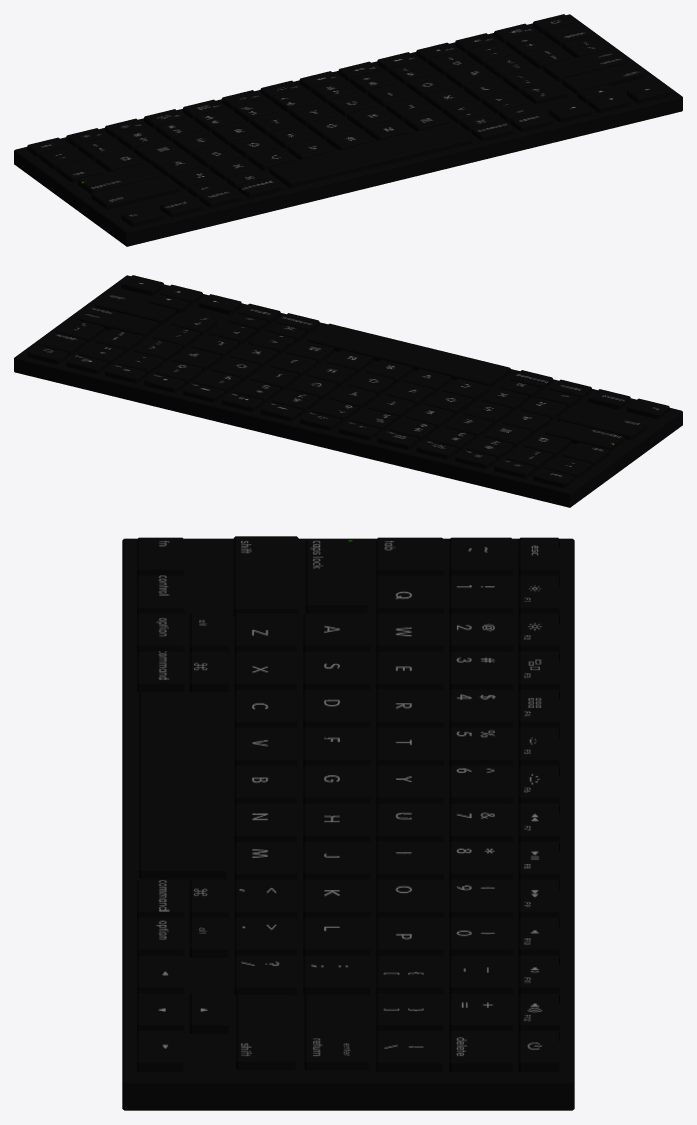
Rendered from tastiera.fbx.
3 views of the same model, one above another, from view 1: azimuth 30°, elevation 25°; view 2: azimuth 150°, elevation 25°; view 3: azimuth 270°, elevation 25° (orthographic). The views are drawn at different scales.
Visible parts, largest first — view 1: tasti; view 2: tasti; view 3: tasti.
Boxes of the visible parts, x1,y1,x2,y2 form: tasti: (14,14,682,246); tasti: (14,275,682,507); tasti: (122,536,574,1110).
Size of the model in its own units: 600 by 21.02 by 211.
